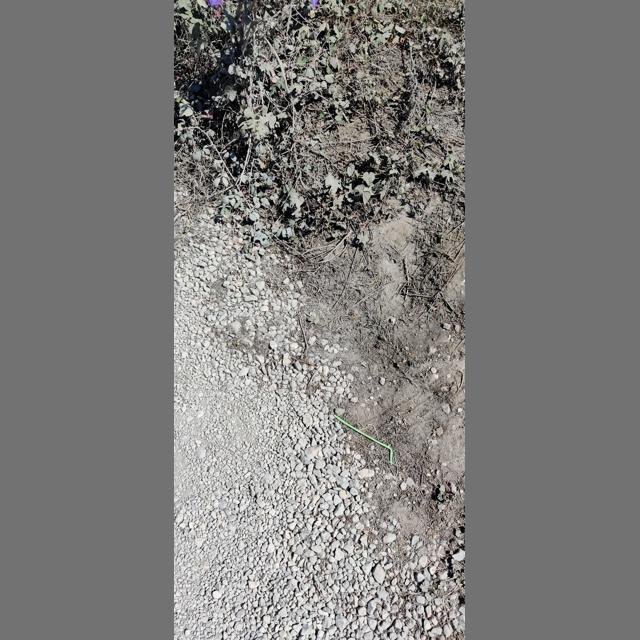litter: (333, 414, 393, 464)
